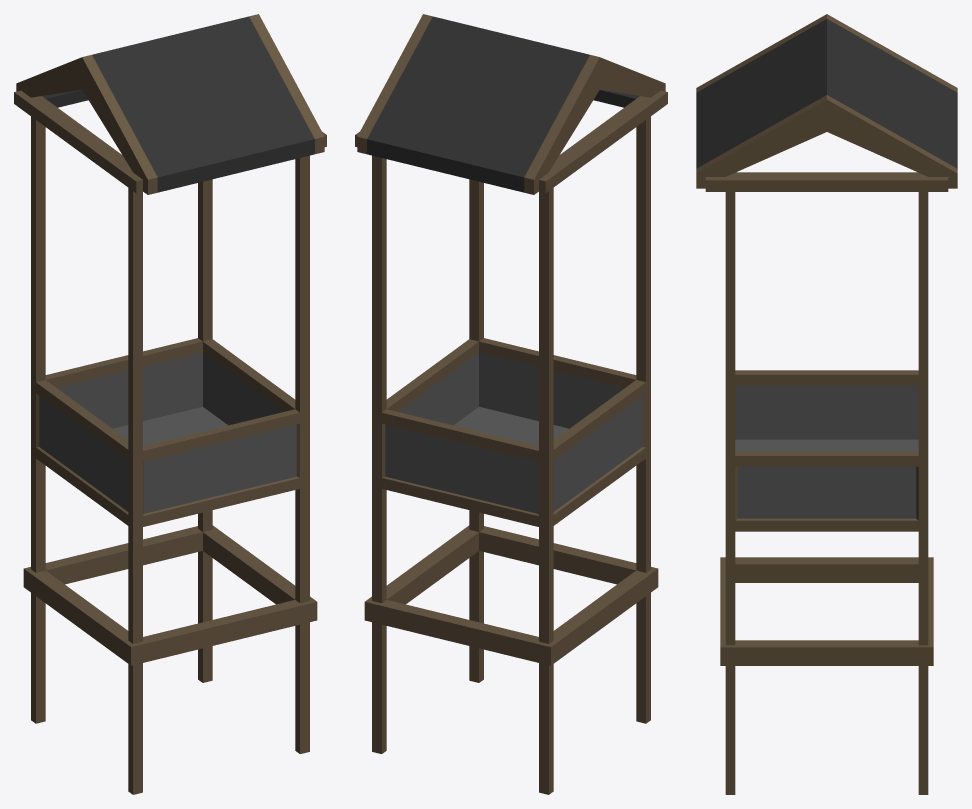
The model's file is watchTower.fbx.
3 renders of one model, left to right at view 1: azimuth 30°, elevation 25°; view 2: azimuth 150°, elevation 25°; view 3: azimuth 270°, elevation 25°, orthographic.
Parts seen in each view (by area): view 1: watchTower; view 2: watchTower; view 3: watchTower.
Part boxes in pixels (x1,y1,x2,y2): watchTower: [14, 14, 326, 794]; watchTower: [355, 14, 667, 794]; watchTower: [696, 14, 957, 794].
Bounding box in the file's own units: 25.17 × 88.31 × 30.09.
